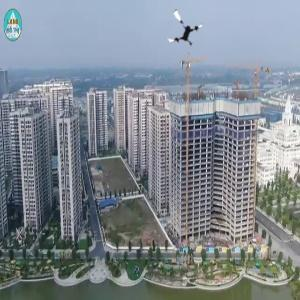drone: (164, 9, 206, 51)
